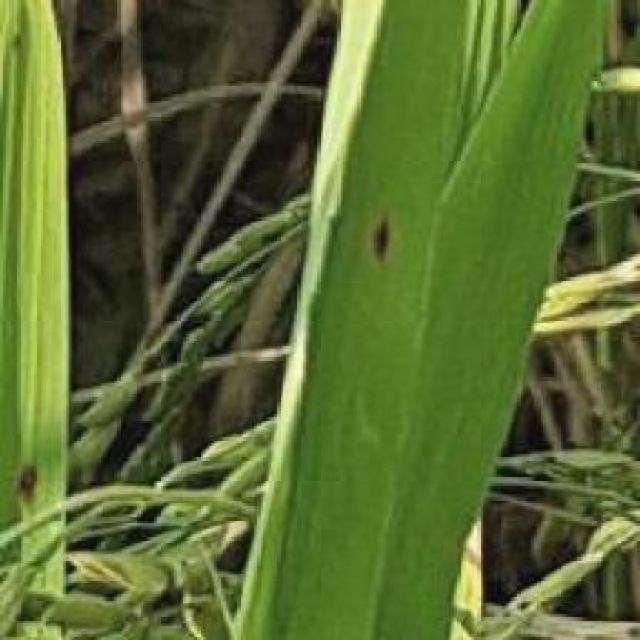Leaf_Blast: (356, 189, 396, 271), (1, 450, 48, 513)
